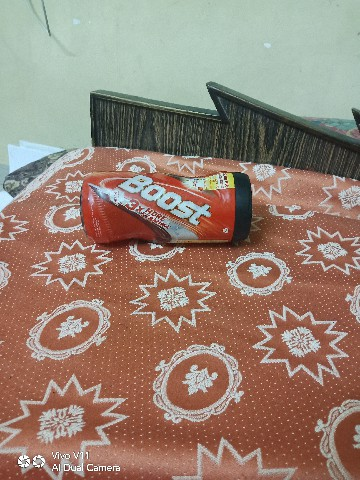boost big: (76, 159, 267, 254)
